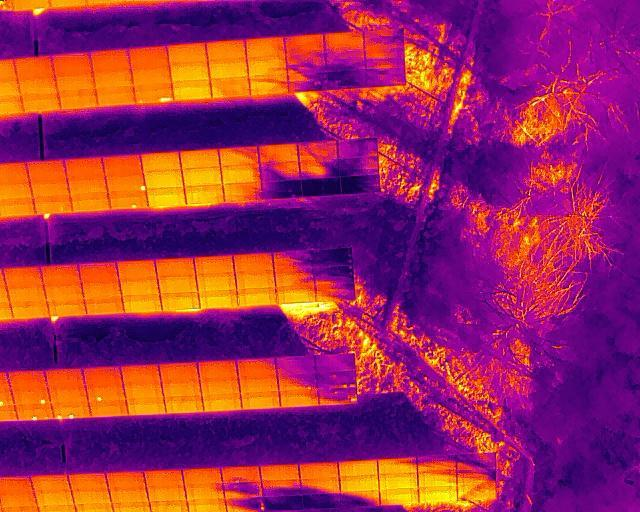Cell: (86, 383, 126, 403), (106, 173, 147, 192), (10, 387, 50, 404), (108, 191, 147, 208), (225, 496, 264, 512)
Cell-Multi: (318, 386, 356, 405), (50, 401, 90, 419), (12, 404, 53, 421), (317, 372, 355, 388)
No-Anomaly: (16, 56, 53, 80), (54, 54, 92, 76), (169, 41, 207, 63), (92, 48, 129, 70), (7, 369, 47, 389), (64, 156, 106, 175), (101, 155, 143, 174), (59, 89, 97, 110), (181, 168, 225, 186), (247, 56, 286, 76), (207, 39, 246, 59), (286, 33, 325, 53), (247, 36, 286, 56), (132, 65, 171, 85), (220, 165, 261, 184), (180, 149, 221, 168), (70, 193, 110, 212), (26, 159, 66, 178), (211, 77, 249, 97), (45, 368, 85, 387), (116, 262, 156, 281), (236, 356, 278, 374), (147, 188, 186, 207), (259, 144, 298, 163), (129, 47, 168, 66), (199, 375, 238, 394), (83, 365, 122, 384), (41, 265, 80, 284), (78, 264, 117, 283), (97, 86, 134, 106), (67, 175, 108, 193), (140, 153, 181, 171), (198, 290, 239, 308), (193, 257, 234, 275), (33, 195, 71, 214), (223, 184, 261, 203), (325, 33, 363, 52), (419, 485, 457, 504), (122, 295, 160, 314), (174, 79, 210, 99), (238, 374, 278, 392), (6, 281, 46, 299), (171, 63, 208, 82), (10, 299, 47, 318), (29, 177, 68, 195), (197, 359, 236, 377), (23, 91, 58, 111), (236, 287, 277, 304), (81, 282, 122, 299), (1, 265, 42, 282), (107, 470, 145, 488), (146, 171, 184, 189), (20, 75, 56, 94), (209, 59, 247, 77), (202, 393, 240, 411), (380, 487, 418, 505), (222, 465, 262, 482), (241, 391, 281, 408), (48, 386, 88, 403), (123, 380, 163, 397), (159, 363, 199, 380), (43, 284, 83, 301), (196, 274, 236, 291), (236, 271, 276, 288), (33, 474, 70, 492), (147, 470, 184, 488), (340, 475, 379, 492), (185, 185, 224, 202), (183, 467, 222, 484), (280, 389, 319, 406), (84, 298, 123, 315), (156, 261, 195, 278), (235, 254, 274, 271), (127, 396, 163, 414), (56, 73, 94, 90), (164, 395, 202, 412), (121, 364, 161, 380), (70, 474, 107, 491), (302, 462, 339, 479), (95, 70, 132, 87), (379, 473, 418, 489), (161, 379, 200, 395), (277, 286, 316, 302), (89, 402, 128, 418), (261, 463, 299, 479), (186, 483, 224, 499), (161, 293, 199, 309), (339, 460, 379, 475), (46, 301, 86, 316), (119, 281, 159, 296), (157, 278, 197, 293), (73, 489, 110, 505), (34, 491, 72, 506), (109, 487, 146, 502), (147, 487, 186, 501), (0, 491, 34, 507), (0, 476, 33, 492)
Shadowing: (364, 29, 404, 50), (364, 49, 405, 69), (299, 159, 339, 179), (338, 140, 379, 159), (287, 72, 328, 91), (287, 52, 328, 71), (250, 75, 288, 95), (366, 68, 404, 88), (316, 354, 356, 373), (219, 147, 260, 165), (262, 180, 300, 199), (329, 69, 367, 88), (315, 249, 353, 268), (278, 371, 316, 390), (300, 178, 340, 196), (274, 251, 314, 269), (299, 142, 338, 160), (224, 481, 263, 499), (339, 159, 380, 176), (274, 269, 315, 286), (458, 451, 496, 469), (276, 355, 316, 372), (301, 477, 340, 494), (340, 176, 379, 193), (260, 163, 299, 180), (264, 495, 303, 512), (341, 490, 380, 507), (262, 479, 301, 496), (327, 52, 365, 69), (457, 483, 495, 500), (315, 268, 353, 285), (418, 470, 458, 486), (377, 456, 417, 472), (418, 454, 458, 470), (458, 468, 496, 484), (303, 493, 340, 509), (316, 285, 353, 301)
Unclassified: (134, 84, 172, 104)
